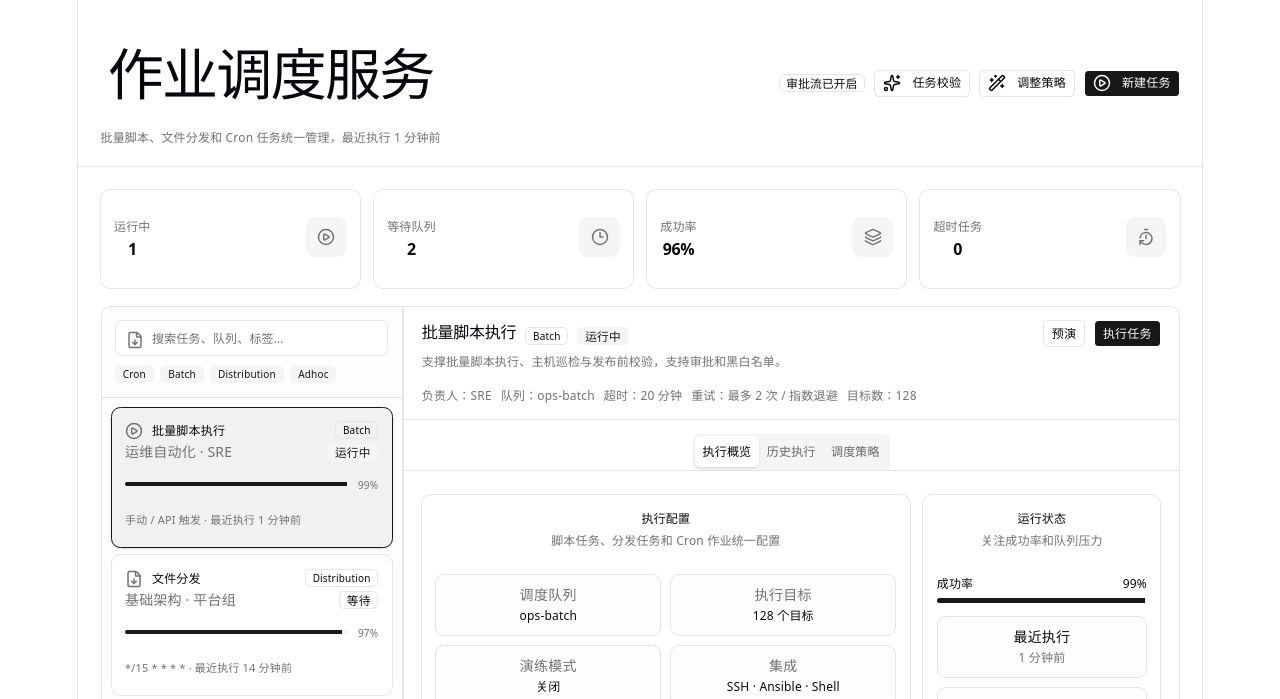
Test case: TaskJobEnginePage › switches the selected job from the list
This screenshot has width=1280, height=699.
Click the button "文件分发" at (176, 578), box x1=110 y1=554 x2=393 y2=696
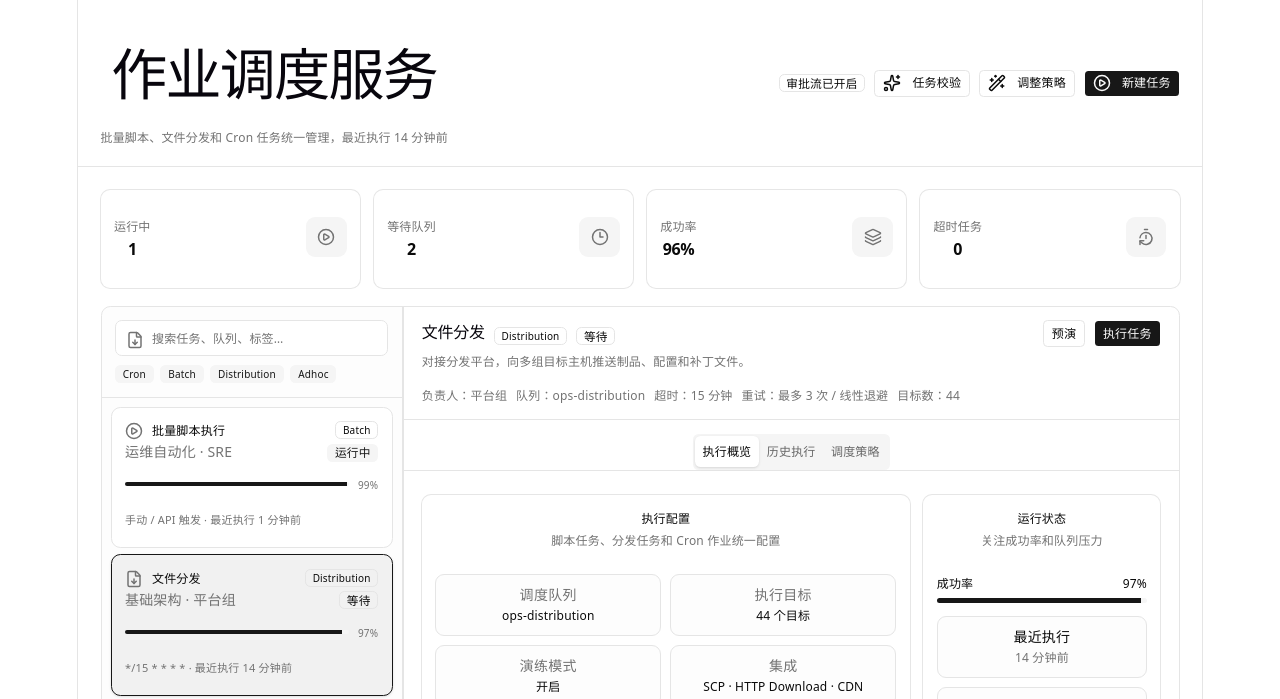
Check: the text "对接分发平台，向多组目标主机推送制品、配置和补丁文件。" is shown, box x1=422 y1=352 x2=751 y2=372
Check: the heading "文件分发" is shown, box x1=422 y1=320 x2=485 y2=344
